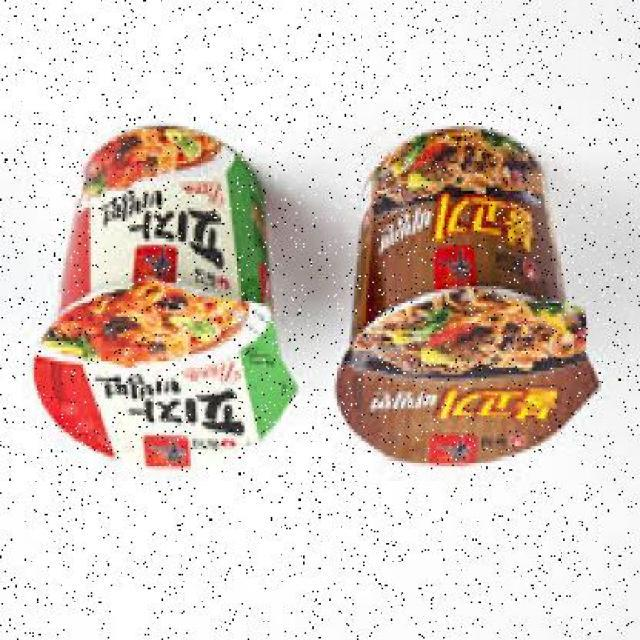Miscellaneous: (33, 124, 302, 476), (325, 122, 590, 470)
